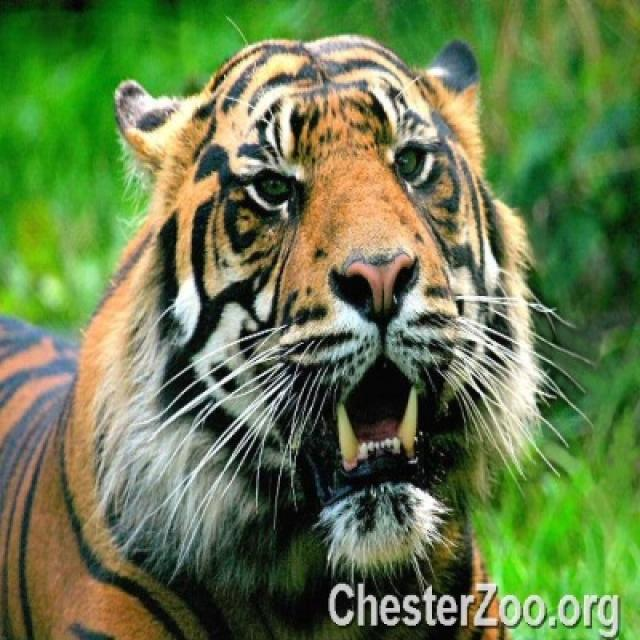Tiger: (0, 39, 544, 630)
